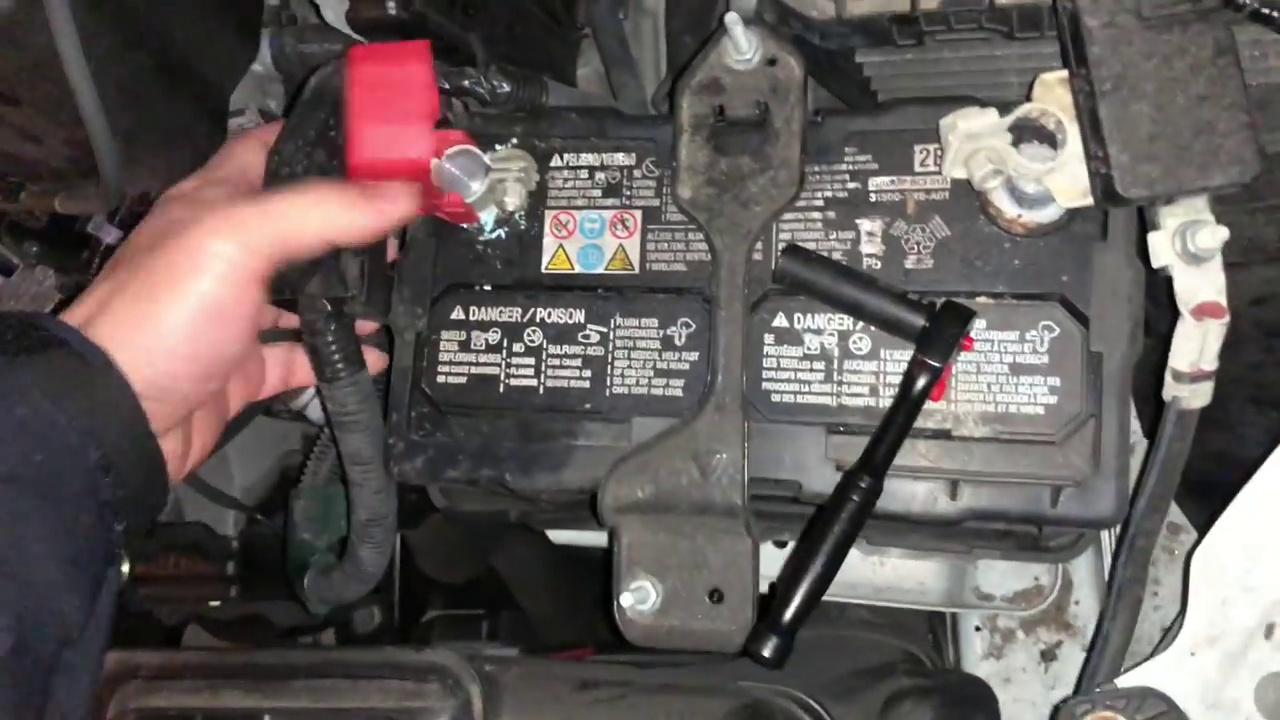battery: (364, 81, 1119, 504)
neg_disconnected: (926, 75, 1097, 233)
pos_connected: (328, 78, 537, 226)
pos_touched: (191, 117, 522, 319)
